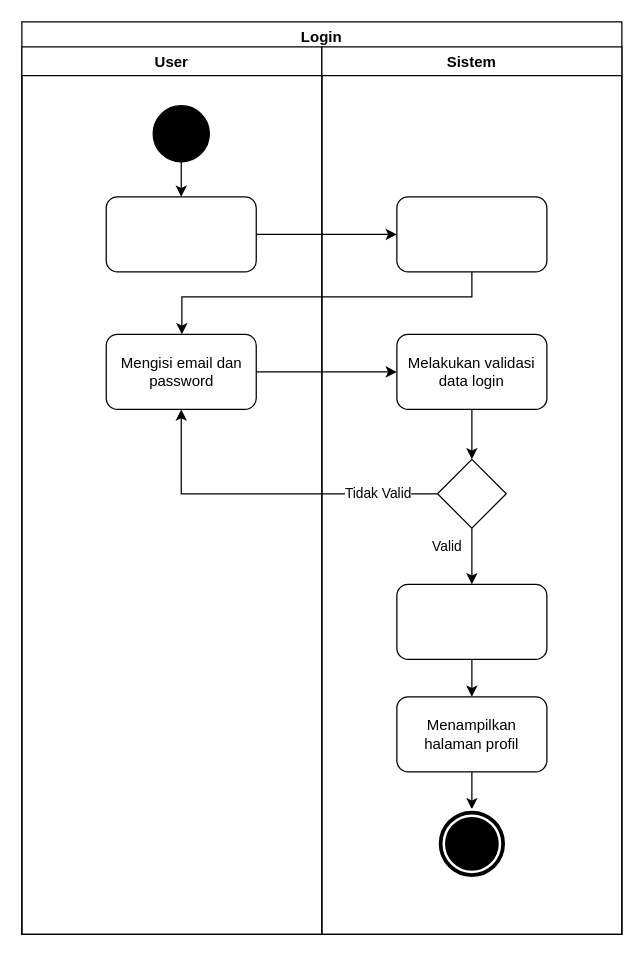
Some shapes in this 644 by 956 pixel diagram are drawn without their labels. Each missing label, with the centre of its shape:
"Membuka halaman login" goes at point 180,234.
"Menampilkan halaman login" goes at point 471,234.
"Menyimpan session login" goes at point 471,621.
